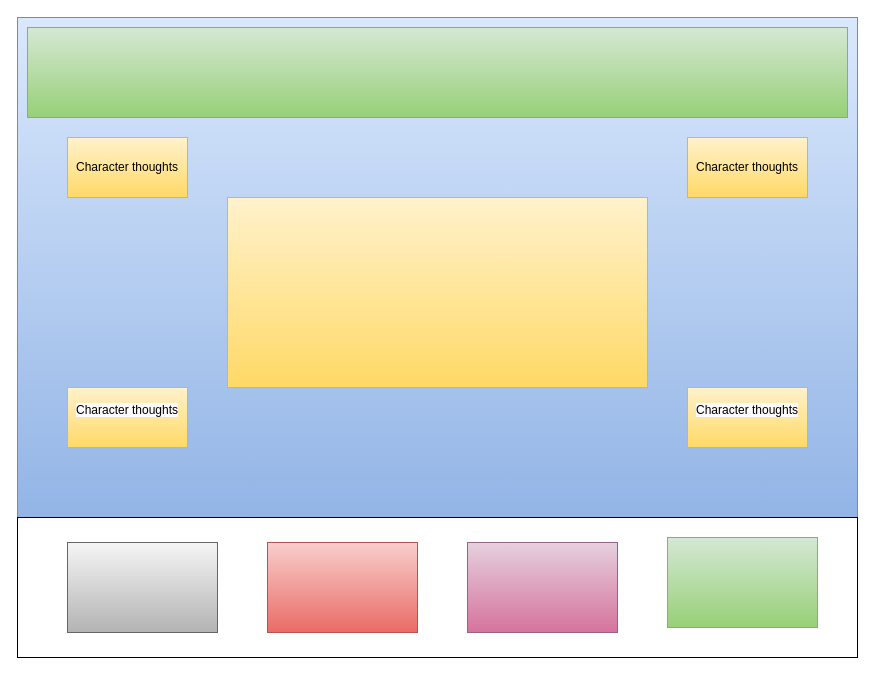
Some shapes in this 875 by 675 pixel diagram are drawn without their labels. The centre of each missing label's shape, as x and y in pixels:
TEXTS OF AREA: (x=437, y=292)
Title Of Location: (x=437, y=72)
